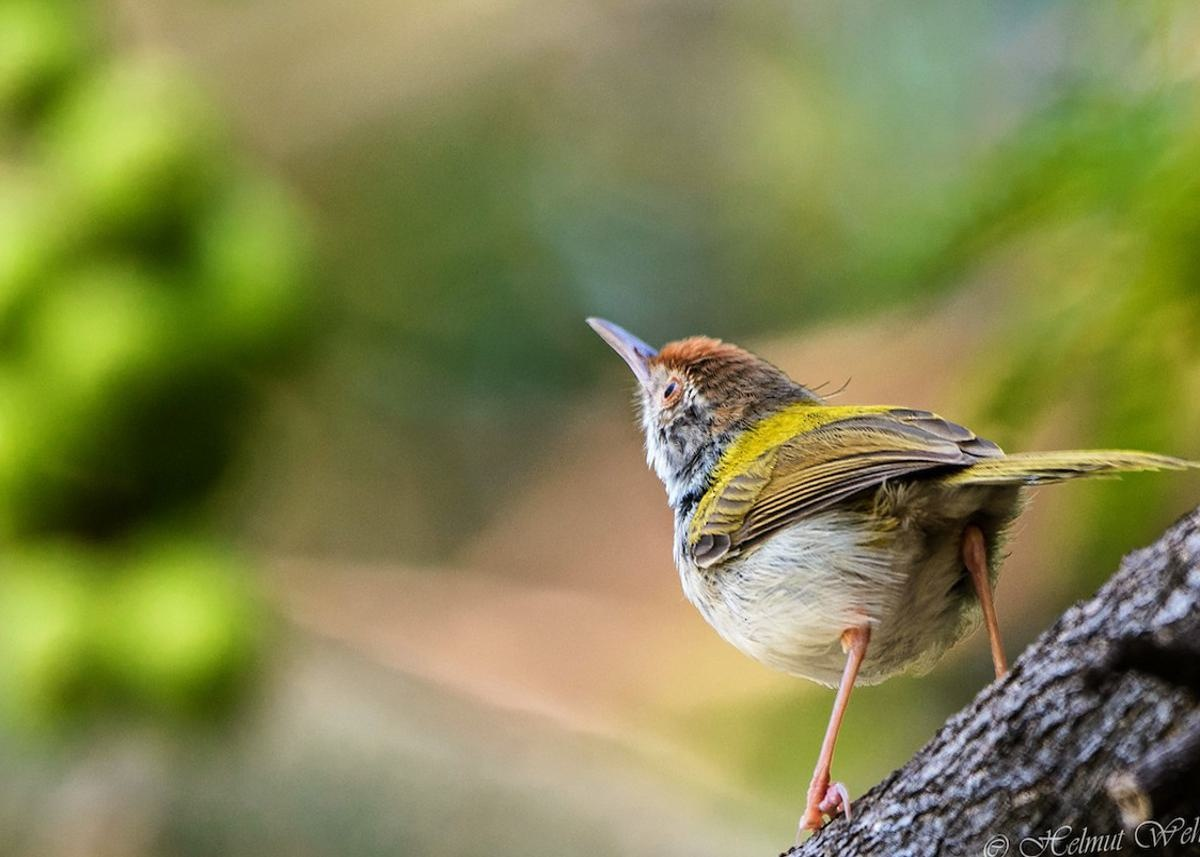tailorbird: (579, 265, 1137, 771)
